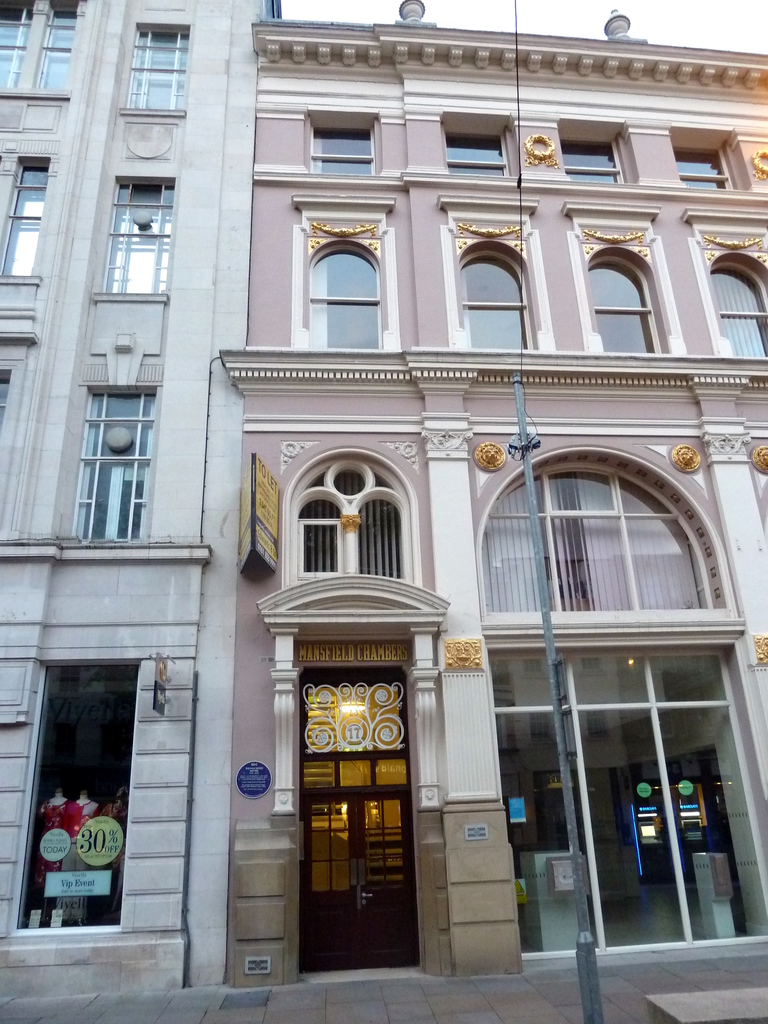door: (303, 798, 358, 956), (362, 806, 410, 959)
